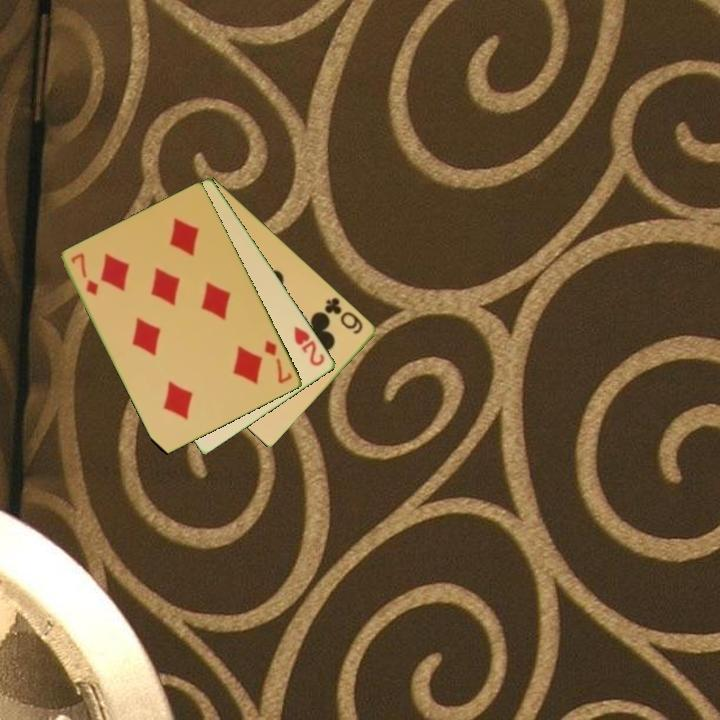2h: (291, 323, 328, 369)
6c: (321, 294, 366, 337)
7d: (261, 337, 296, 387), (68, 249, 102, 298)
